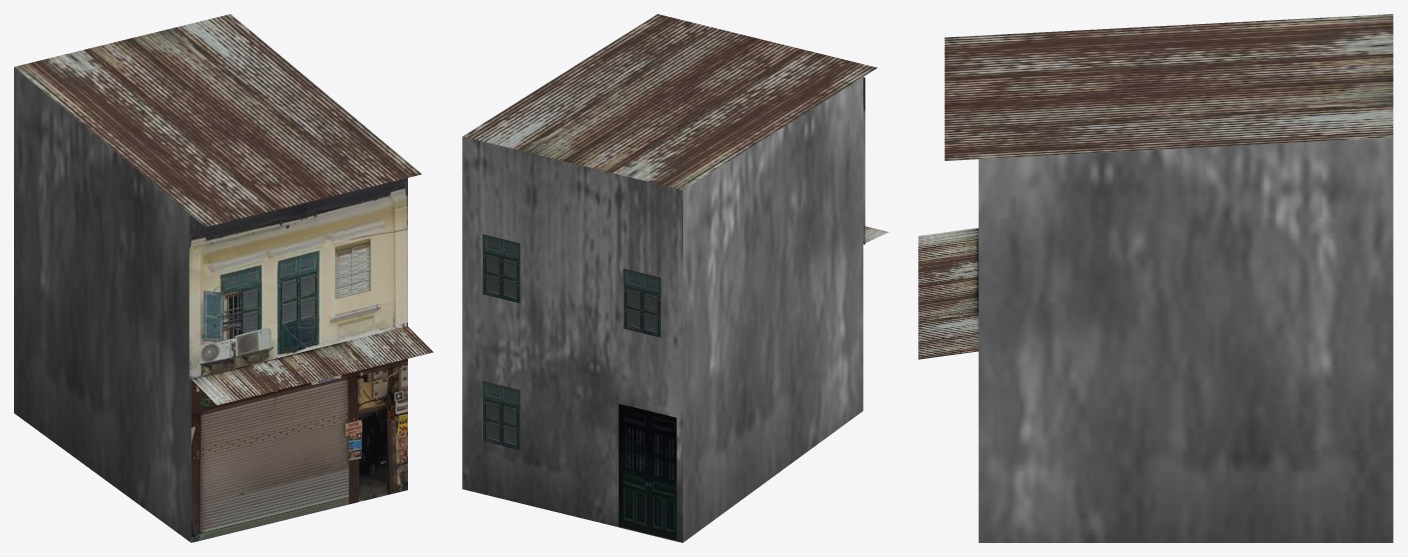
3 views of the same model, side by side, from view 1: azimuth 30°, elevation 25°; view 2: azimuth 150°, elevation 25°; view 3: azimuth 270°, elevation 25° (orthographic). The views are drawn at different scales.
Parts seen in each view (by area): view 1: HN1031_27; view 2: HN1031_27; view 3: HN1031_27.
Boxes of the visible parts, box(x1,y1,x2,y2) form: HN1031_27: box(14, 14, 433, 542); HN1031_27: box(462, 14, 889, 542); HN1031_27: box(918, 14, 1393, 542).
Bounding box in the file's own units: 6.06 × 9.17 × 9.75.
Materials: 1 (1 with a texture image).
